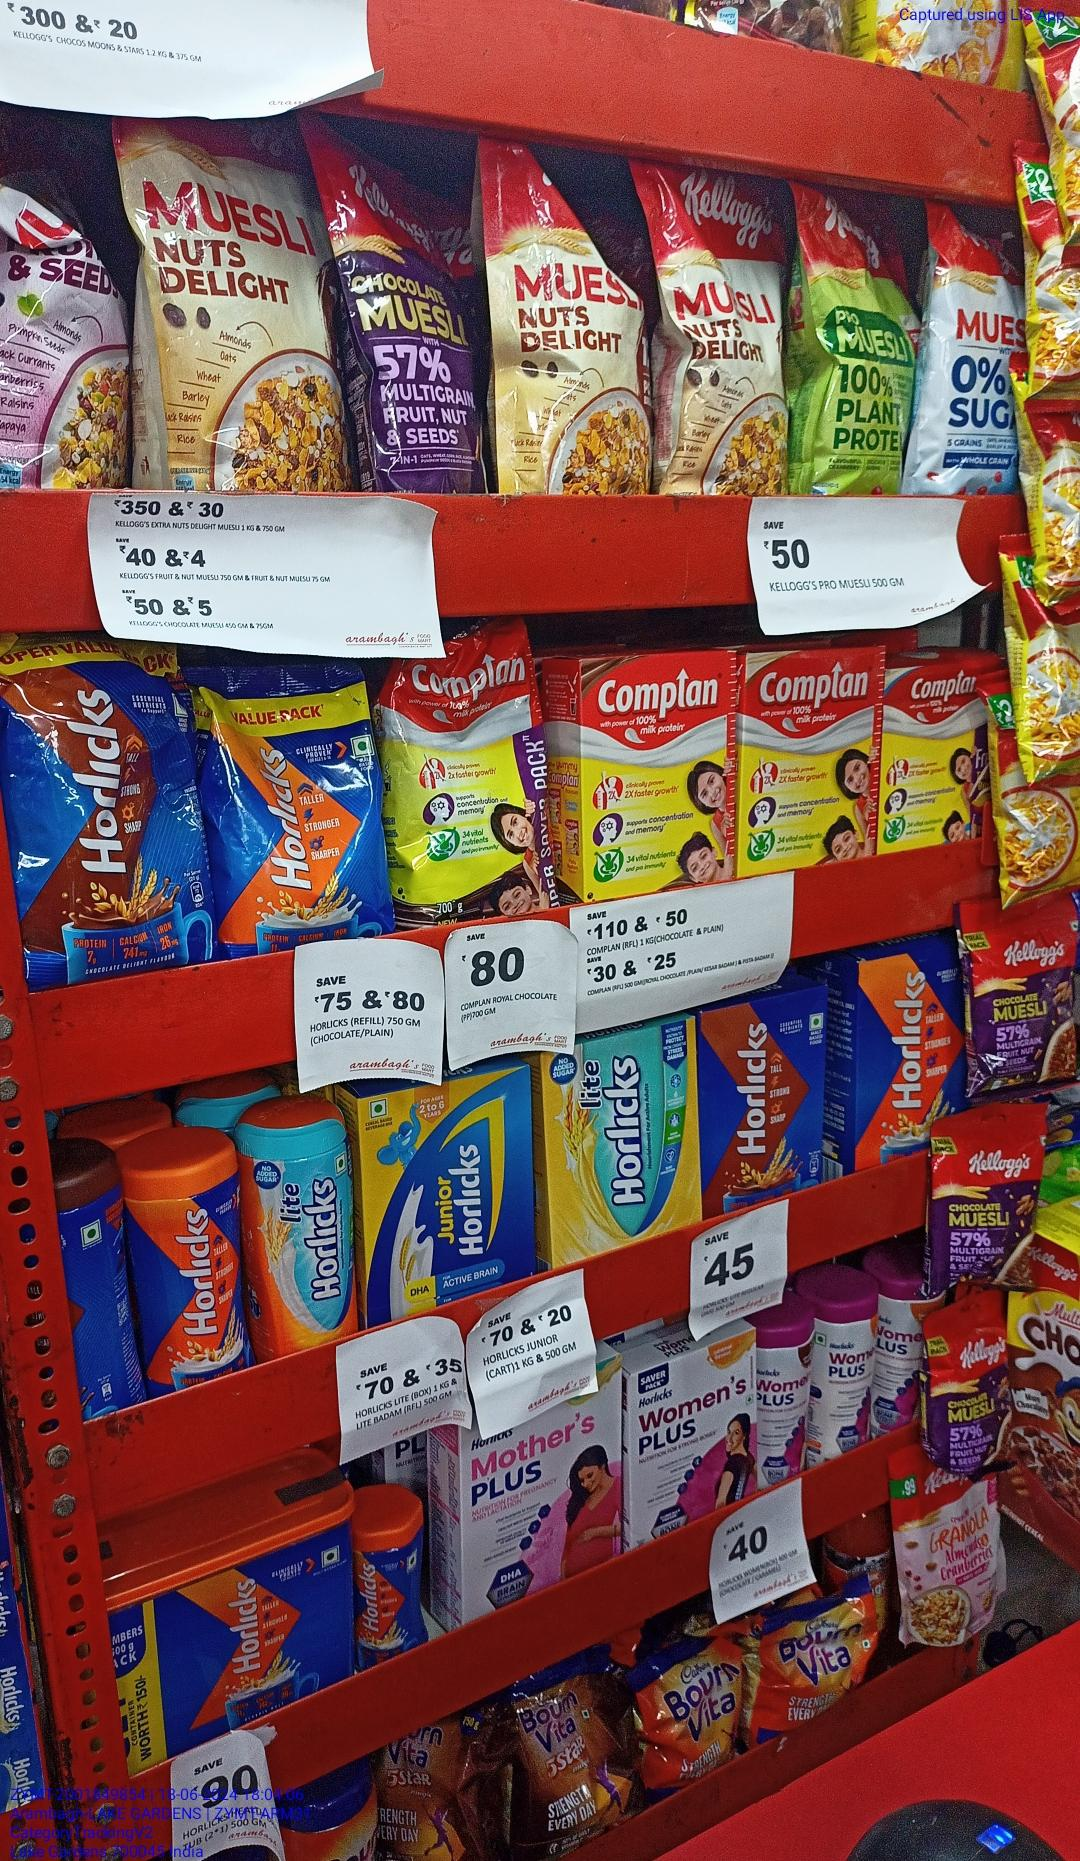BOURN_VITA_500_G_POUCH: (640, 1655, 738, 1771)
BOURN_VITA_FIVE_STAR_MAGIC_500_G_POUCH: (518, 1686, 630, 1840)
COMPLAN_CHOCOLATE_500_GMS_PACK: (580, 659, 734, 884)
COMPLAN_CREAMY_CLASSIC_500_G_PACK: (885, 668, 984, 846)
COMPLAN_KESAR_BADAM_500_GMS_PACK: (742, 654, 878, 862)
COMPLAN_RC_POUCH_700_GMS_12: (390, 637, 548, 914)
HORLICK_CHOCOLATE_500_G_PACK: (702, 1002, 827, 1189)
HORLICK_CHOCOLATE_750_G_POUCH: (0, 644, 189, 966)
HORLICK_CLASSIC_MALT_500_G_JAR: (143, 1143, 238, 1375), (360, 1509, 426, 1663)
HORLICK_CLASSIC_MALT_500_G_PACK: (850, 954, 963, 1113)
HORLICK_CLASSIC_MALT_750_G_POUCH: (211, 677, 375, 937)
HORLICK_MALT_1_KG_CONTAINER: (123, 1496, 355, 1708)
